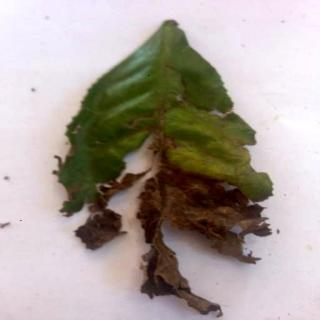Brown Blight: (52, 20, 275, 320)
